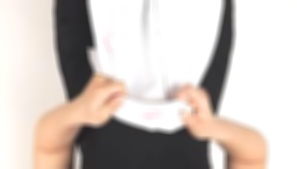lipstick: (101, 27, 117, 56), (135, 107, 166, 120)
